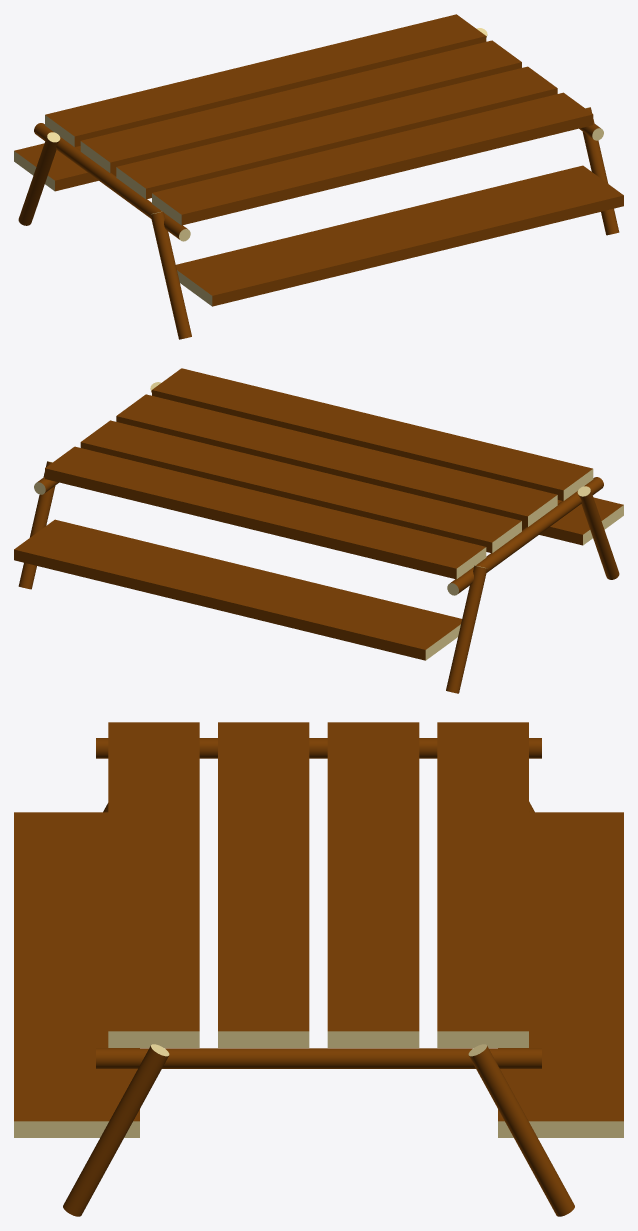
File: Picnic_Anastasia.fbx
3 renders of one model, top to bottom at view 1: azimuth 30°, elevation 25°; view 2: azimuth 150°, elevation 25°; view 3: azimuth 270°, elevation 25°, orthographic. The views are drawn at different scales.
Visible parts, largest first — view 1: Cube, Cube.001, Cylinder.001, Cylinder; view 2: Cube, Cube.001, Cylinder.001, Cylinder; view 3: Cube, Cube.001, Cylinder, Cylinder.001.
Part boxes in pixels (box(x1,y1,x2,y2)): Cube: box(45, 14, 593, 225); Cube.001: box(14, 143, 623, 306); Cylinder.001: box(18, 28, 619, 339); Cylinder: box(34, 123, 603, 241); Cube: box(45, 368, 593, 579); Cube.001: box(14, 497, 623, 660); Cylinder.001: box(18, 382, 619, 693); Cylinder: box(34, 477, 603, 595); Cube: box(108, 722, 528, 1047); Cube.001: box(14, 812, 623, 1137); Cylinder: box(96, 738, 541, 1068); Cylinder.001: box(63, 801, 574, 1216).
Size of the model in its own units: 853 by 215 by 667.
